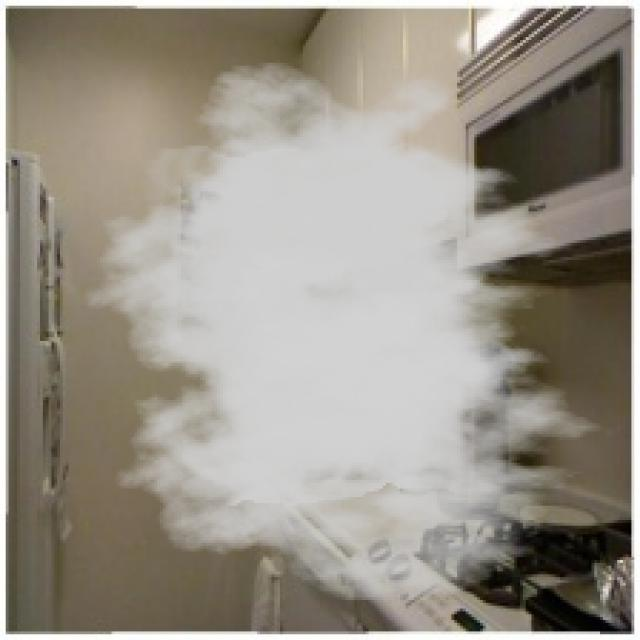smoke: (74, 60, 626, 603)
